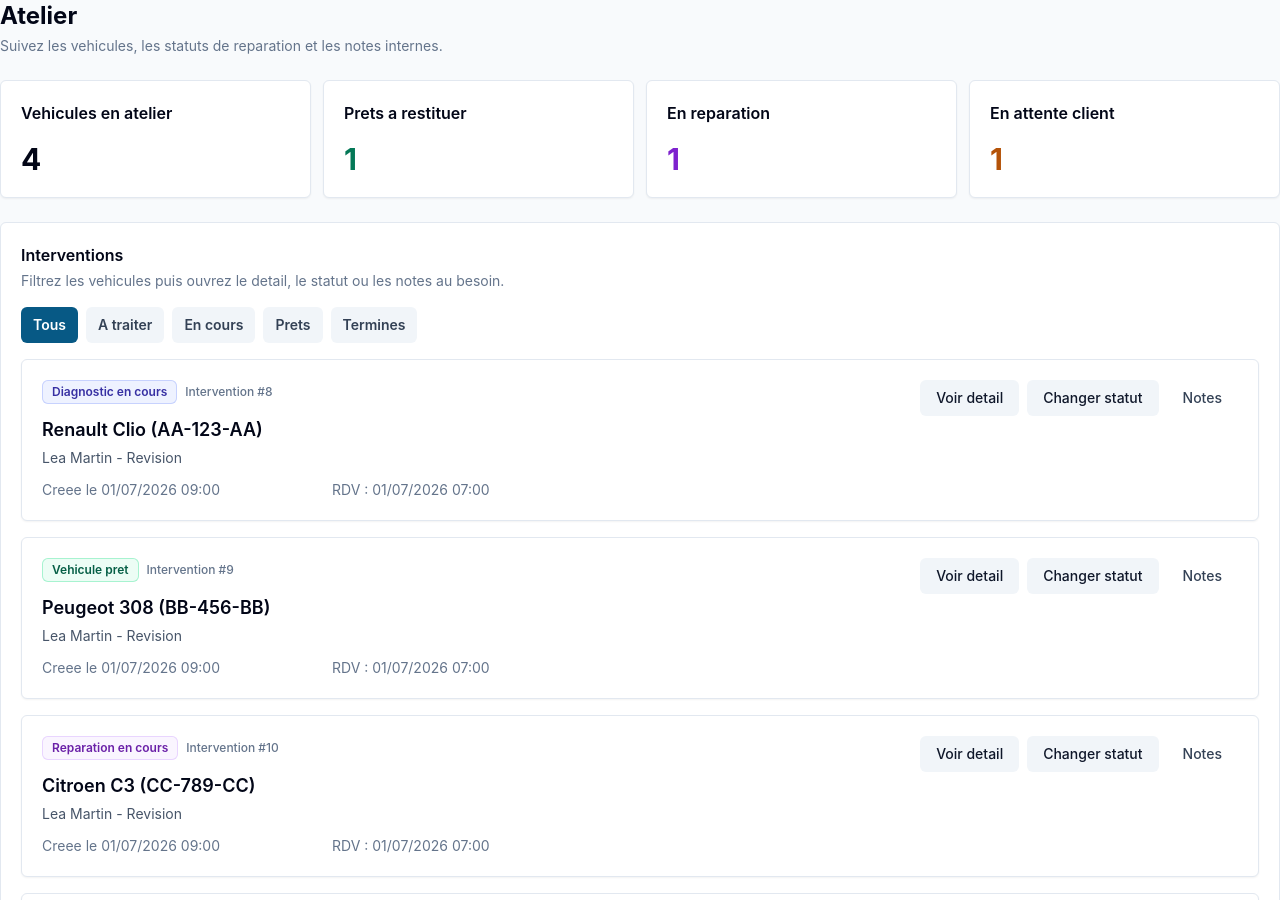
Test: InterventionsPage › filtre les interventions en cours avec les donnees mockees
Click the button "En cours": (214, 325) [172,307,256,343]
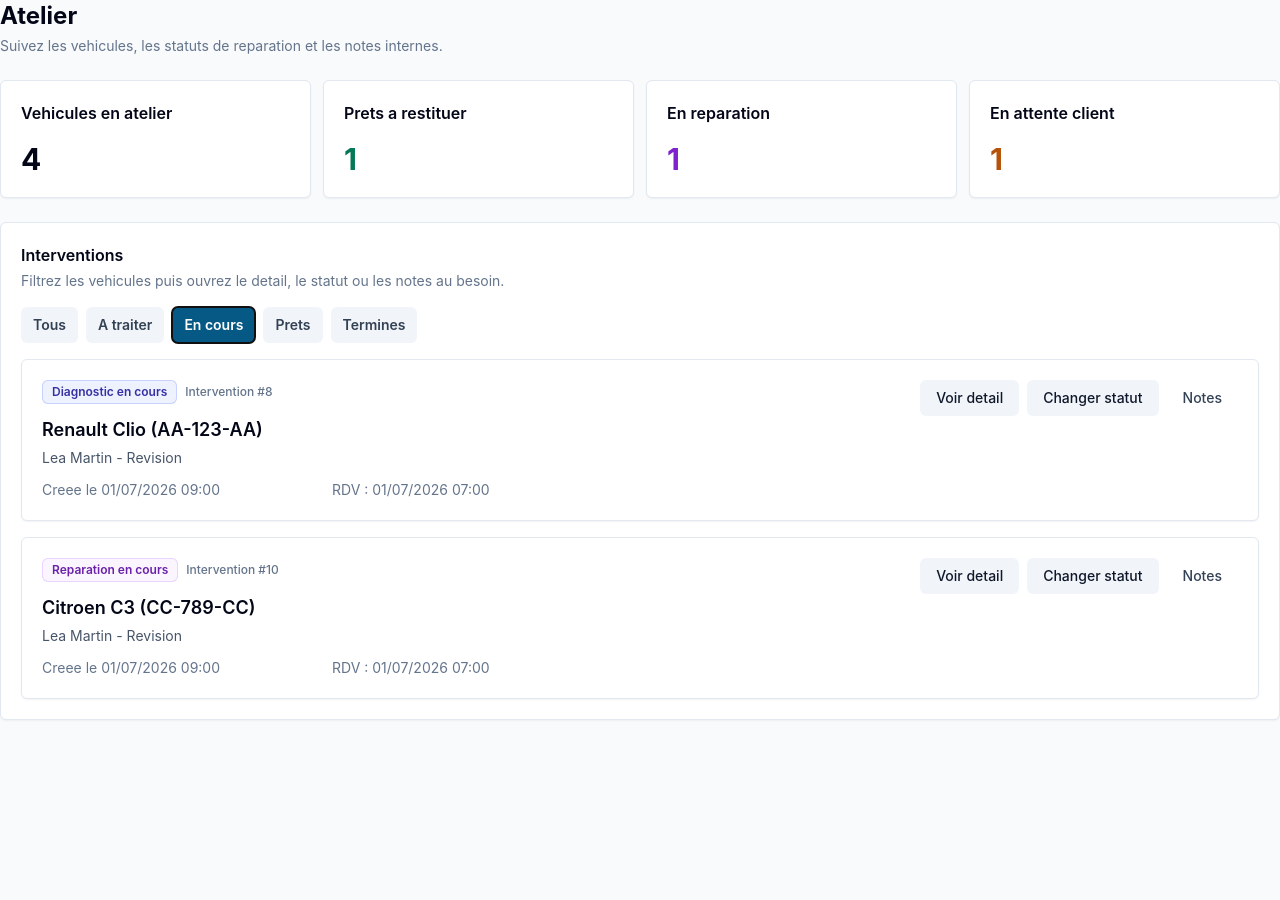
Expected: the heading "Renault Clio (AA-123-AA)" is shown, [42,419,263,440]
Expected: the heading "Peugeot 308" is gone
